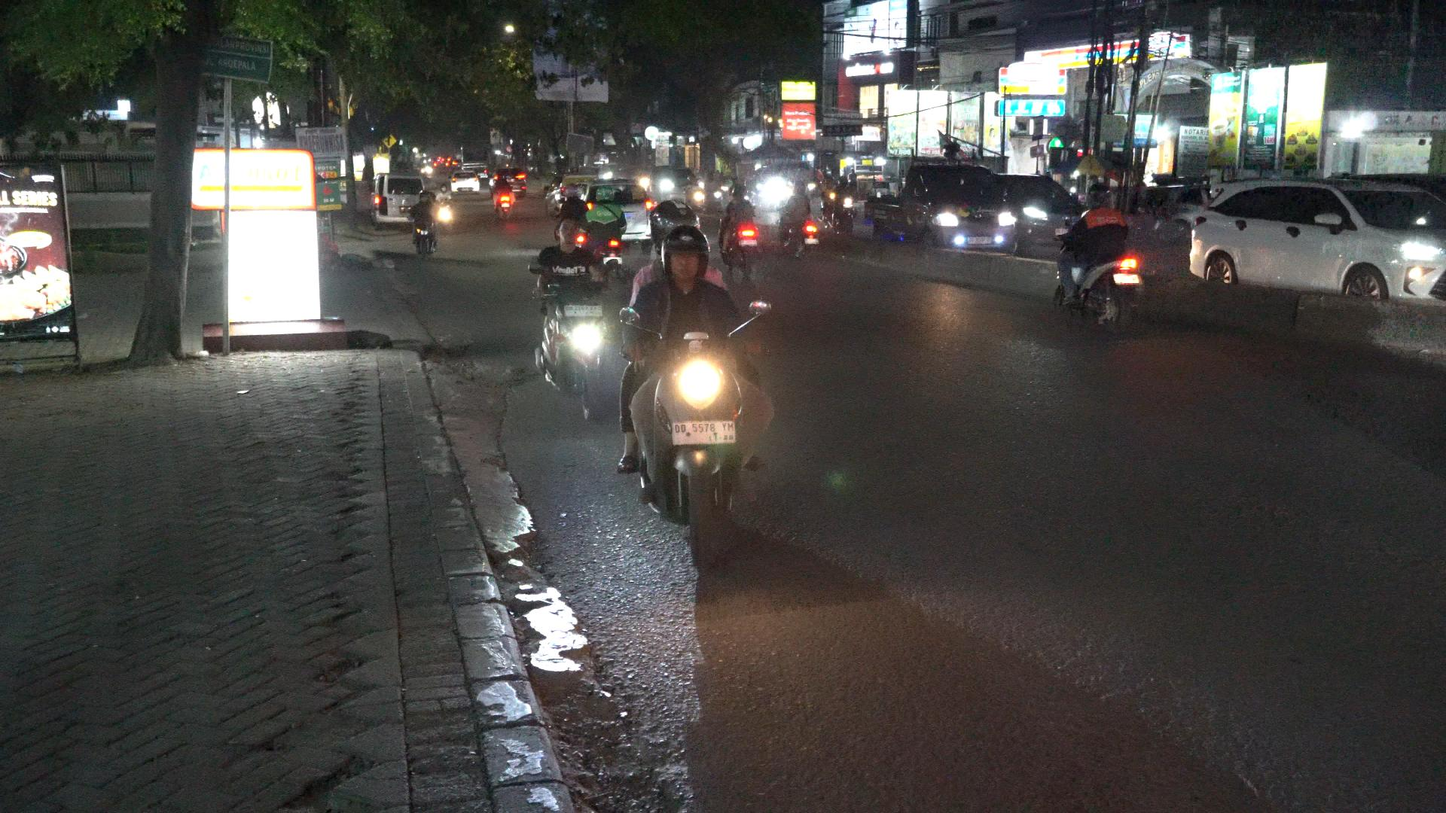number-plate: (665, 420, 742, 448), (562, 302, 606, 321)
